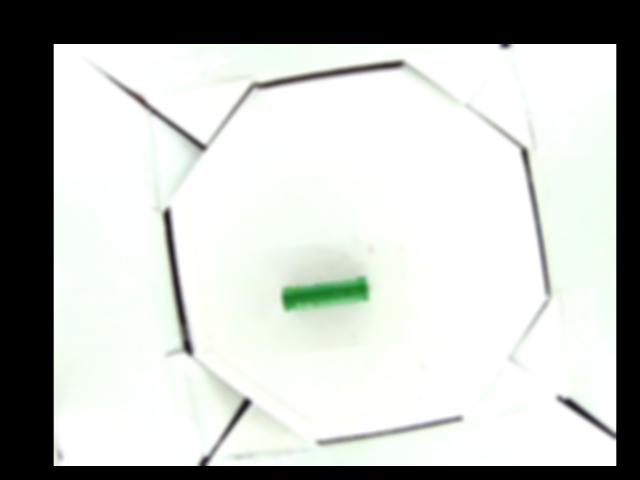Battery: (282, 274, 372, 312)
